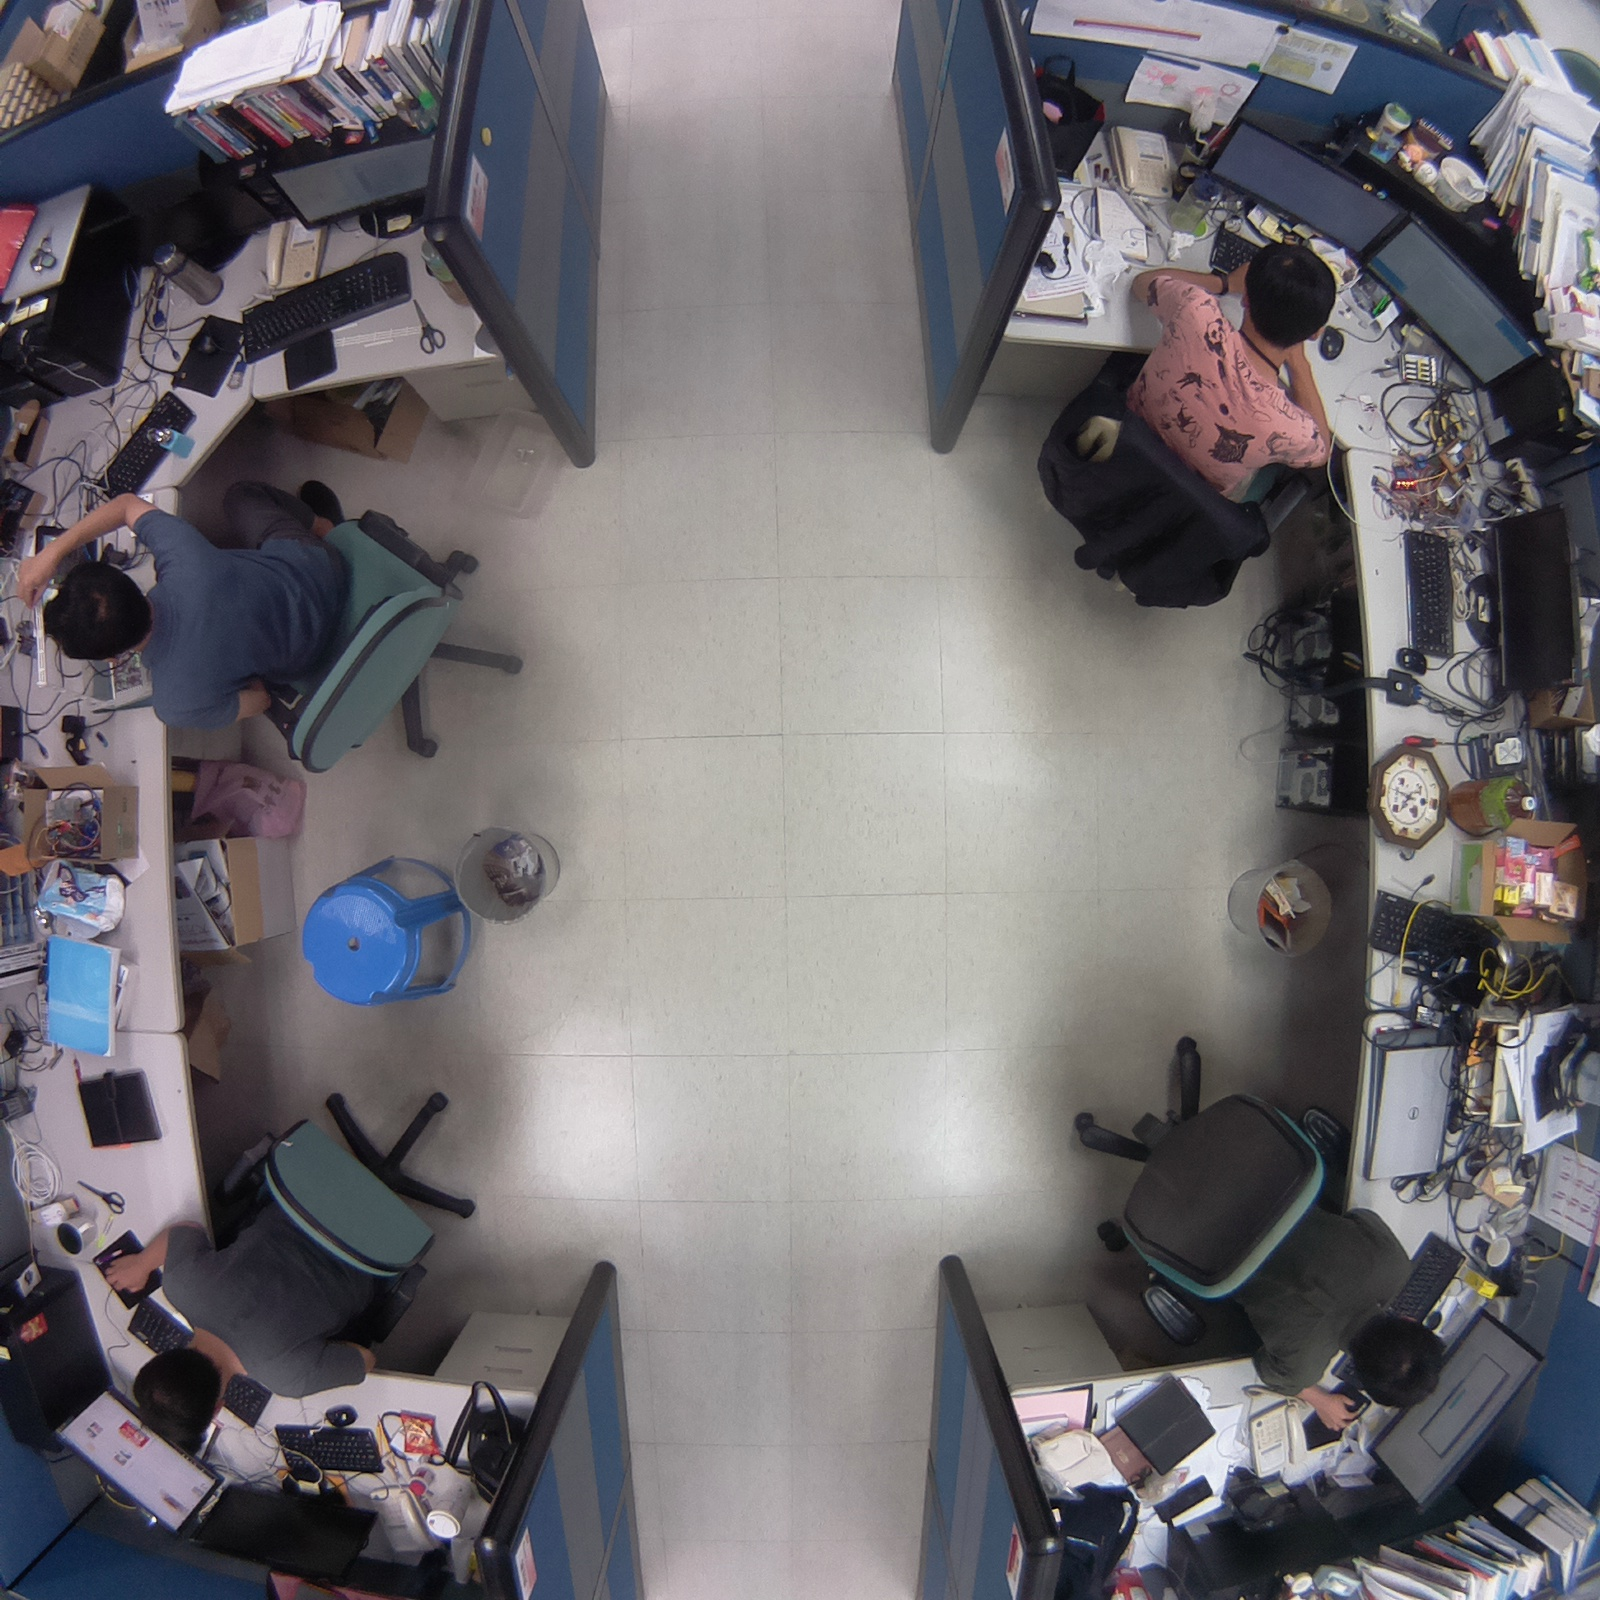head: (37, 553, 156, 667), (1237, 233, 1350, 345), (1343, 1308, 1454, 1414), (125, 1343, 227, 1447)
sitting: (30, 458, 547, 786), (1055, 1019, 1447, 1434), (97, 1065, 496, 1441), (1001, 220, 1355, 632)
